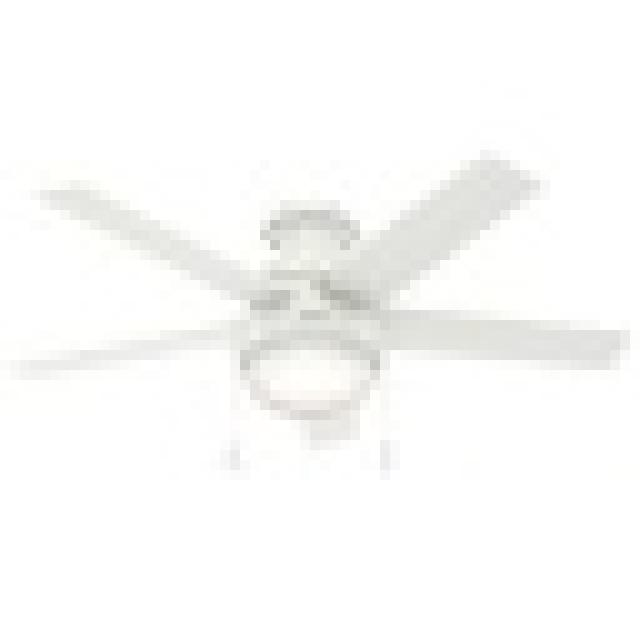Bulb: (40, 148, 640, 432)
